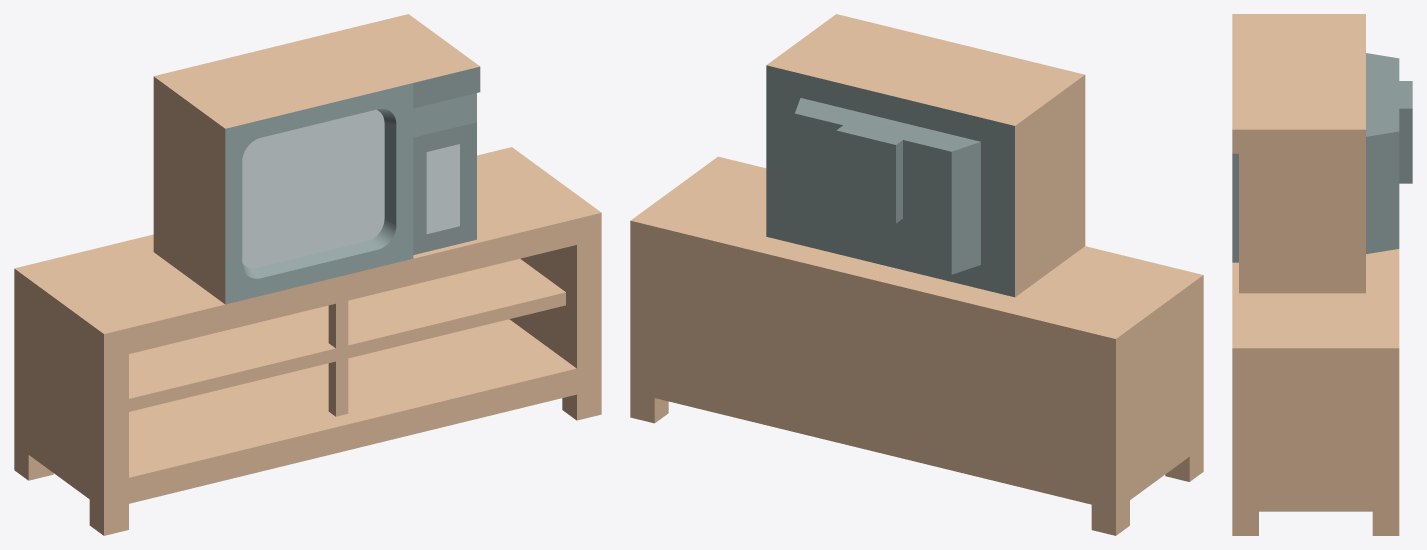
The model's file is tvRetroUnit.glb.
3 views of the same model, side by side, from view 1: azimuth 30°, elevation 25°; view 2: azimuth 150°, elevation 25°; view 3: azimuth 270°, elevation 25° (orthographic). The views are drawn at different scales.
Parts seen in each view (by area): view 1: cabinetTelevision(Clone), televisionVintage(Clone); view 2: cabinetTelevision(Clone), televisionVintage(Clone); view 3: cabinetTelevision(Clone), televisionVintage(Clone).
Boxes of the visible parts, x1=… form: cabinetTelevision(Clone): x1=14, y1=14, x2=601, y2=535; televisionVintage(Clone): x1=225, y1=66, x2=480, y2=304; cabinetTelevision(Clone): x1=630, y1=14, x2=1203, y2=535; televisionVintage(Clone): x1=766, y1=65, x2=1014, y2=297; cabinetTelevision(Clone): x1=1232, y1=14, x2=1399, y2=535; televisionVintage(Clone): x1=1232, y1=53, x2=1412, y2=262.
Size of the model in its own units: 0.8 by 0.58 by 0.27.
